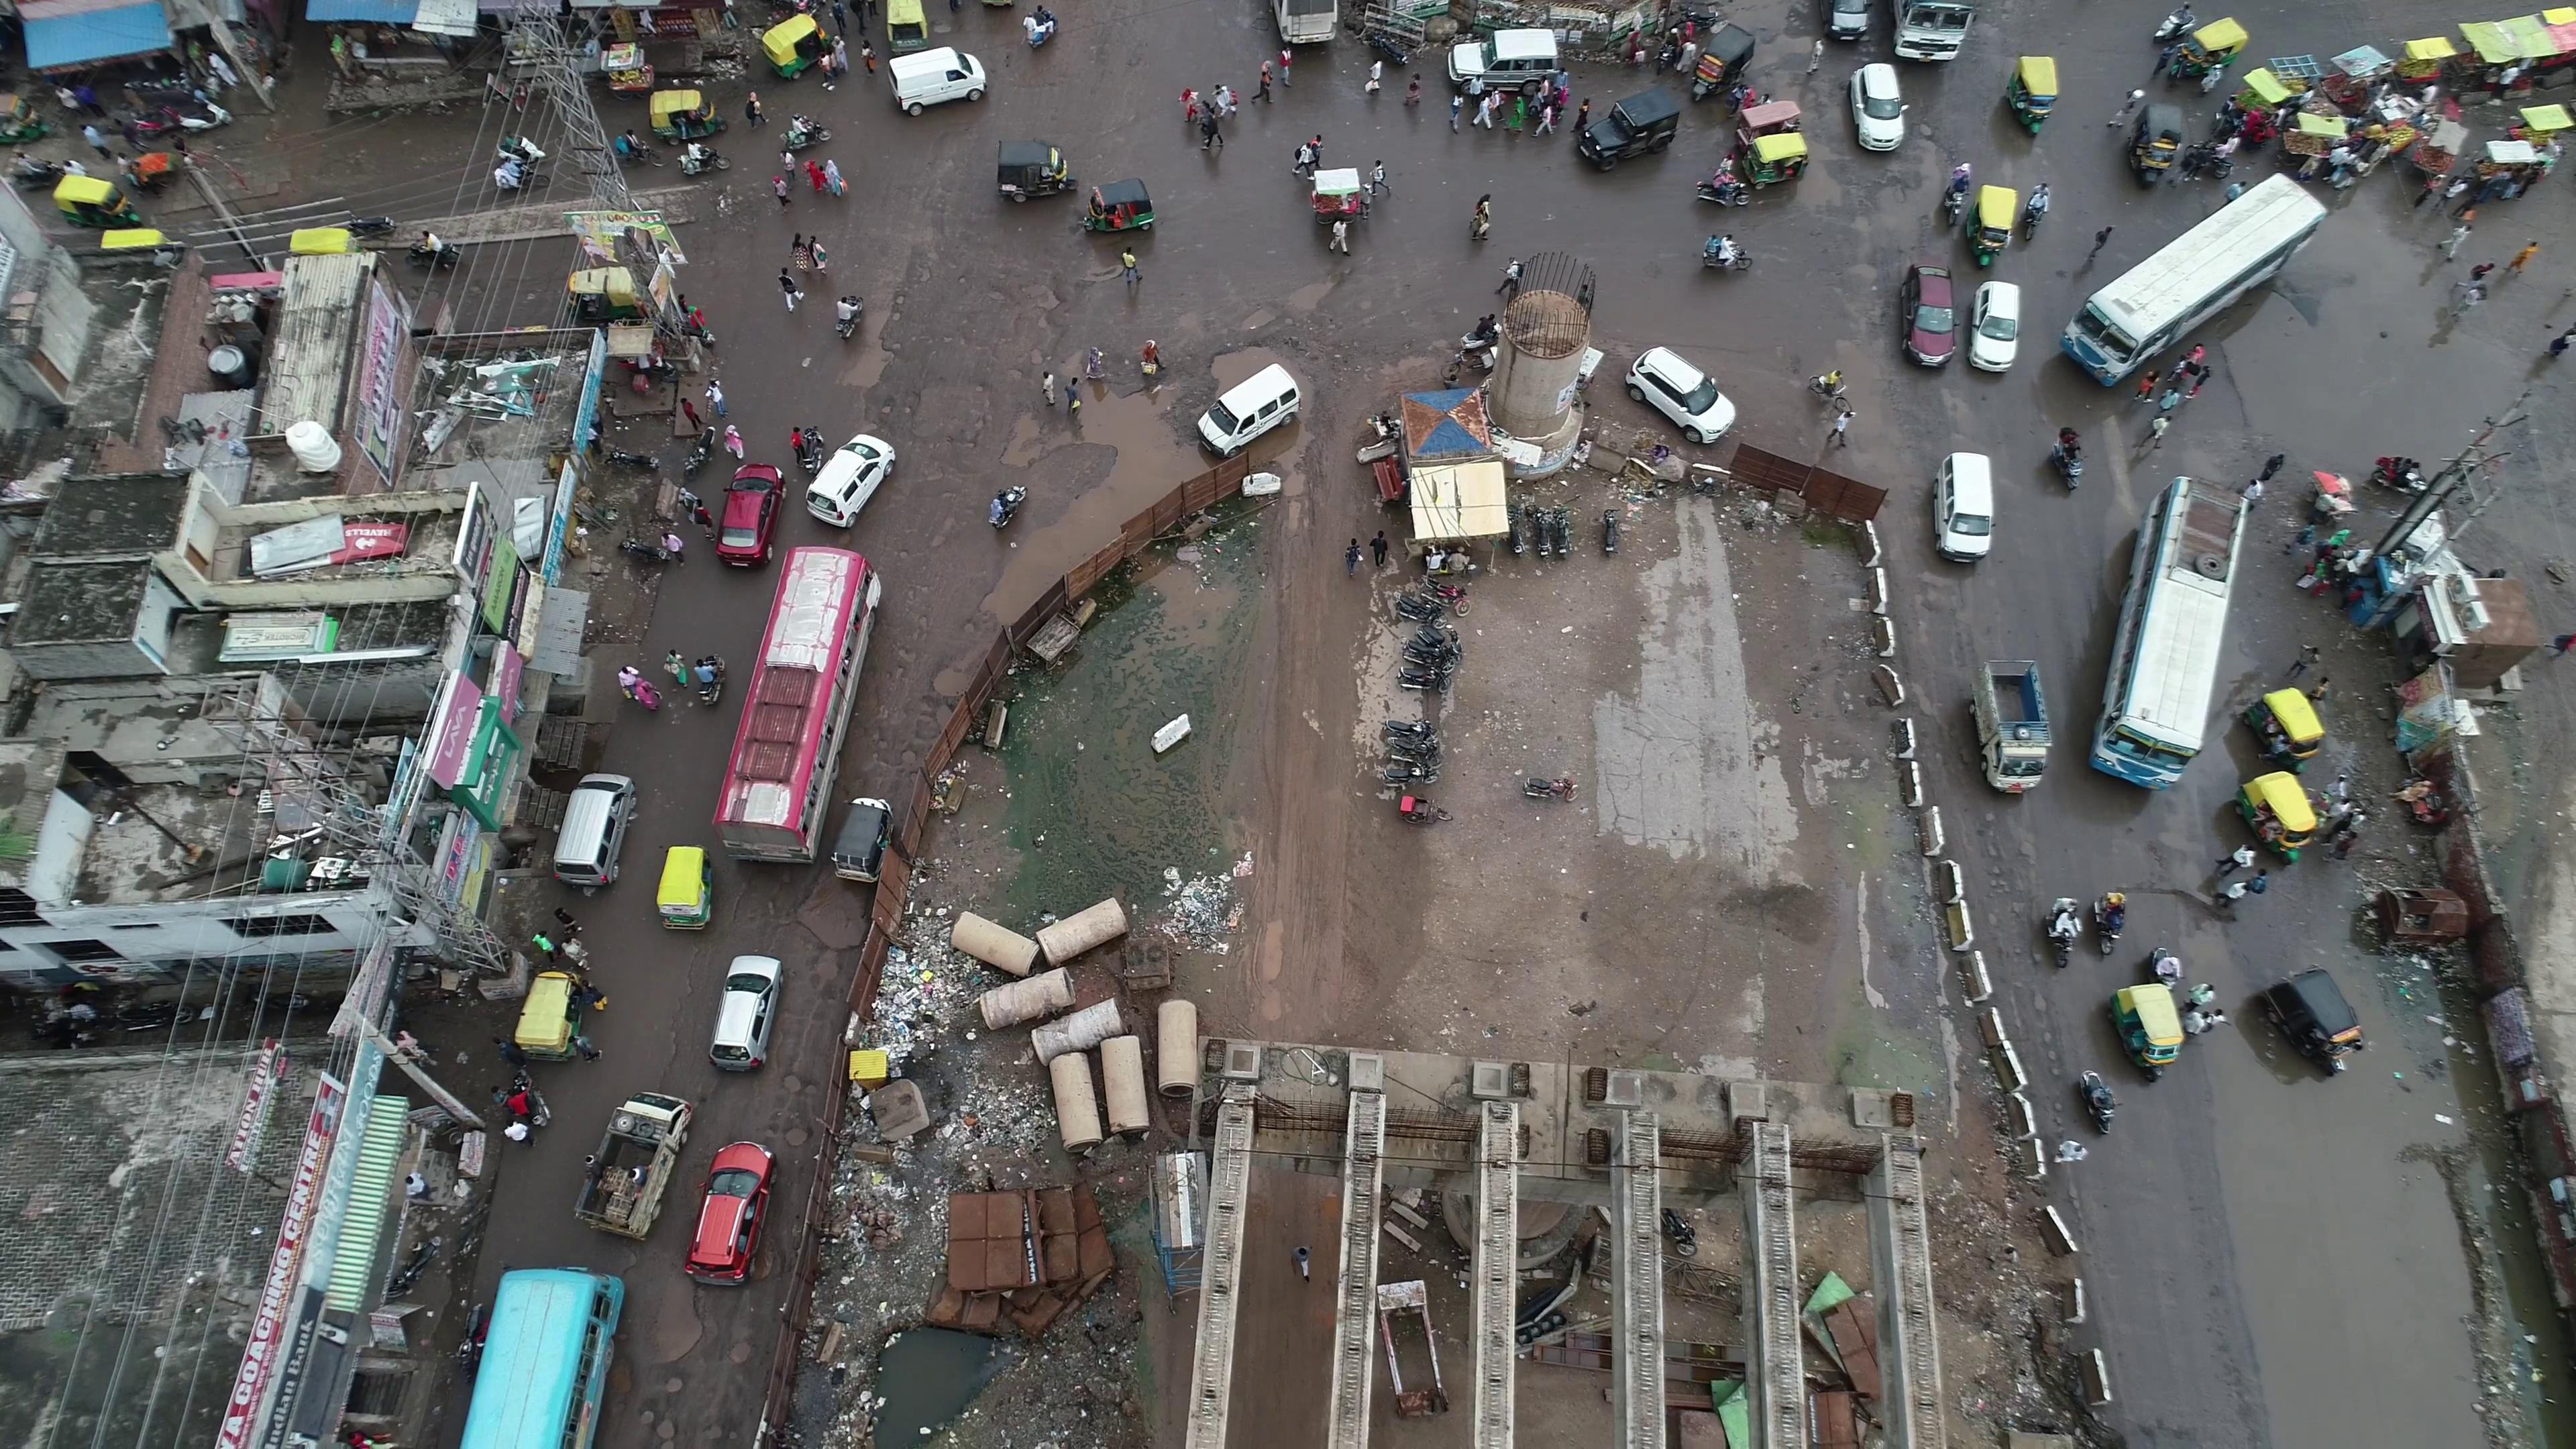Potholes: (1951, 801, 2049, 936), (878, 529, 941, 699), (2028, 991, 2079, 1108), (881, 264, 936, 322)
